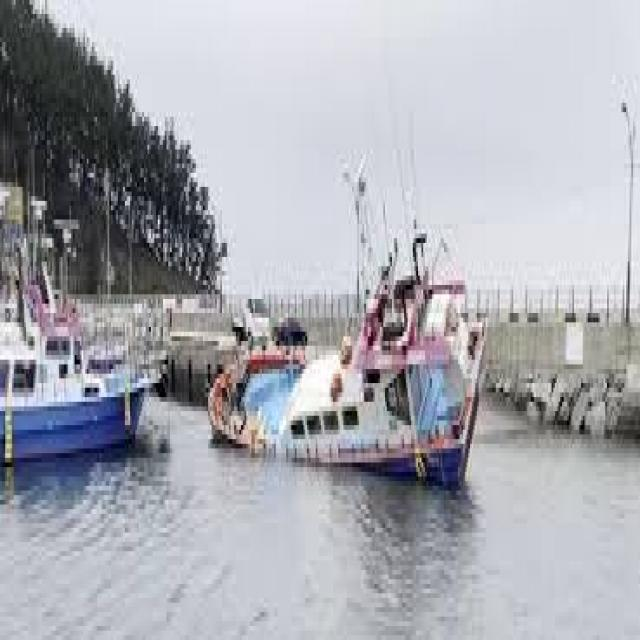Ship: (202, 225, 499, 510), (1, 286, 178, 496)
